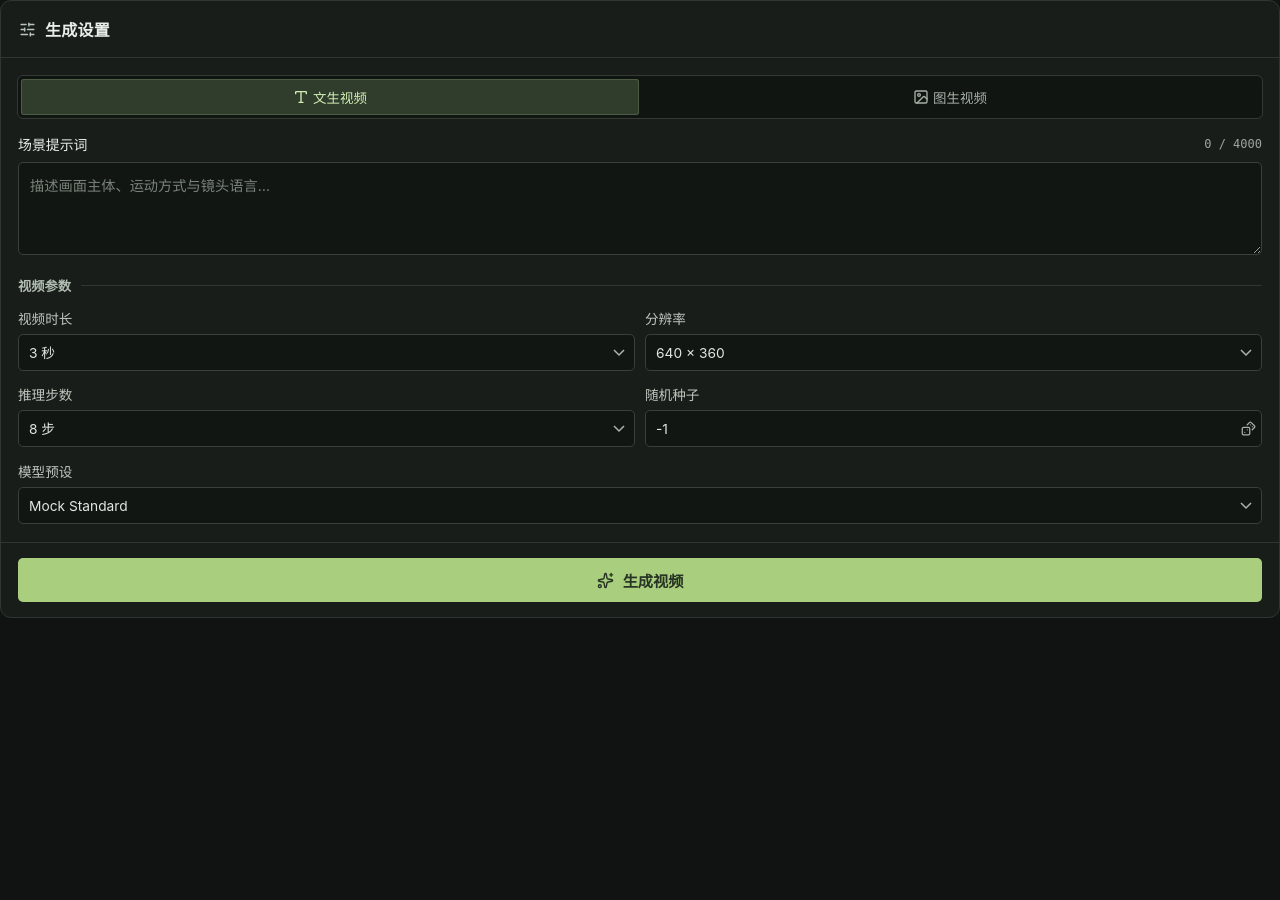
生成表单 › disables unconfigured modes
Click the button "图生视频". click: (950, 97)
box: [641,79,1259,115]
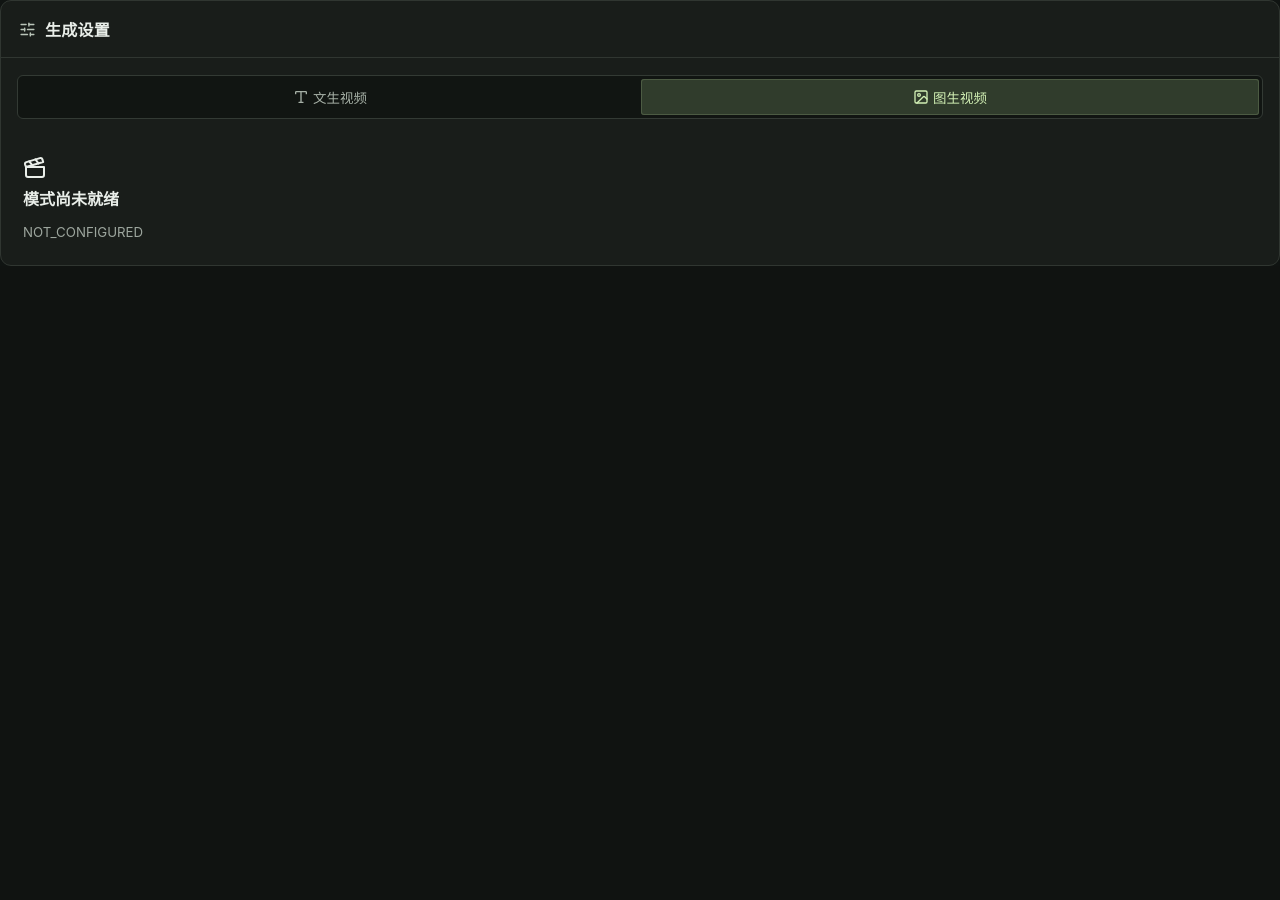
Now the text "NOT_CONFIGURED" is shown, box [23,224,143,240]
Now the button "生成视频" is gone
